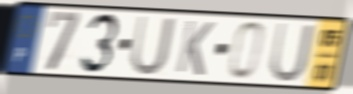0: (226, 19, 269, 82)
3: (76, 11, 122, 75)
7: (45, 10, 84, 73)
K: (174, 18, 217, 78)
U: (128, 14, 177, 78), (267, 21, 316, 85)
